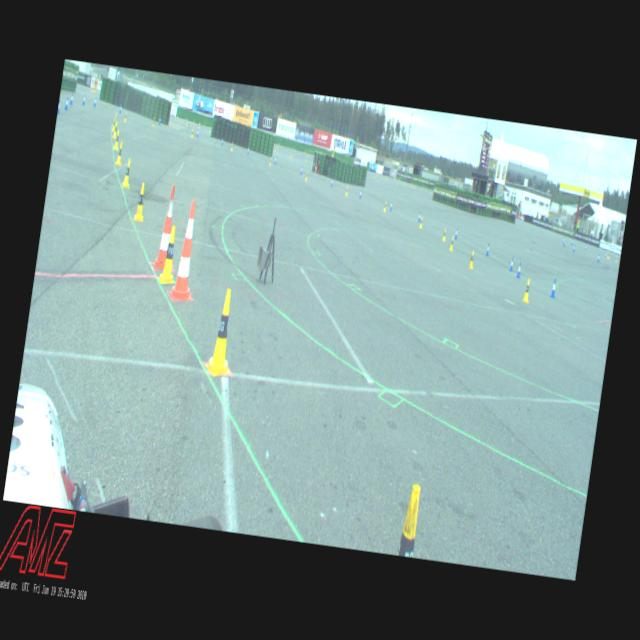blue_cone: (550, 278, 558, 298), (516, 262, 522, 279), (64, 96, 69, 110), (82, 94, 87, 106), (58, 99, 62, 114), (510, 258, 514, 272), (486, 243, 490, 256), (454, 228, 458, 240), (70, 94, 74, 105), (93, 97, 97, 107), (119, 104, 123, 114), (418, 212, 422, 222), (572, 243, 576, 252), (390, 200, 393, 212), (274, 156, 278, 165), (197, 128, 200, 138), (300, 166, 303, 175), (331, 178, 334, 187), (247, 146, 250, 154), (571, 239, 574, 246), (360, 190, 362, 200), (598, 253, 600, 263), (222, 137, 224, 146)
large_orange_cone: (169, 199, 205, 303), (152, 184, 178, 270)
yellow_cone: (204, 287, 242, 378), (396, 483, 424, 558), (158, 224, 182, 284), (133, 182, 148, 222), (122, 158, 134, 189), (522, 277, 532, 303), (114, 142, 124, 166), (468, 249, 476, 269), (114, 130, 120, 150), (112, 122, 119, 138), (449, 235, 455, 251), (442, 228, 447, 241), (383, 200, 388, 213), (112, 118, 116, 131), (152, 116, 156, 128), (419, 216, 423, 228), (304, 170, 308, 181), (124, 111, 128, 122), (345, 186, 349, 197), (269, 156, 272, 167), (191, 128, 194, 138), (230, 142, 233, 152)
